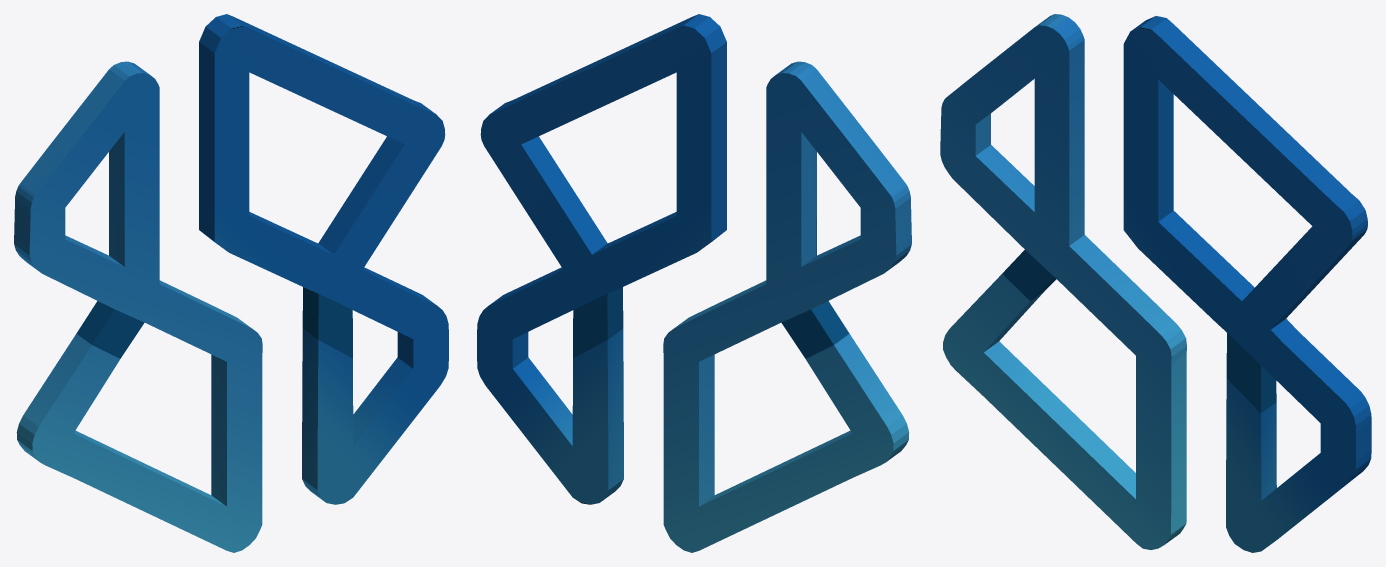
3 views of the same model, side by side, from view 1: azimuth 30°, elevation 25°; view 2: azimuth 150°, elevation 25°; view 3: azimuth 330°, elevation 25° (orthographic).
Visible parts, largest first — view 1: Right Side, Left Side; view 2: Right Side, Left Side; view 3: Right Side, Left Side.
Boxes of the visible parts, box(x1,y1,x2,y2) form: Right Side: box(199, 14, 448, 504); Left Side: box(14, 61, 262, 552); Right Side: box(477, 14, 726, 504); Left Side: box(663, 61, 911, 552); Right Side: box(1123, 16, 1371, 552); Left Side: box(940, 14, 1186, 549).
Bounding box in the file's own units: 2.64 × 3.17 × 0.1708.
Materials: 2 (2 with a texture image).
